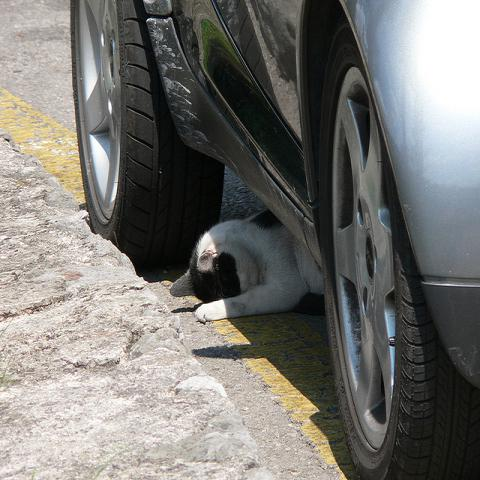car: (68, 3, 478, 475)
